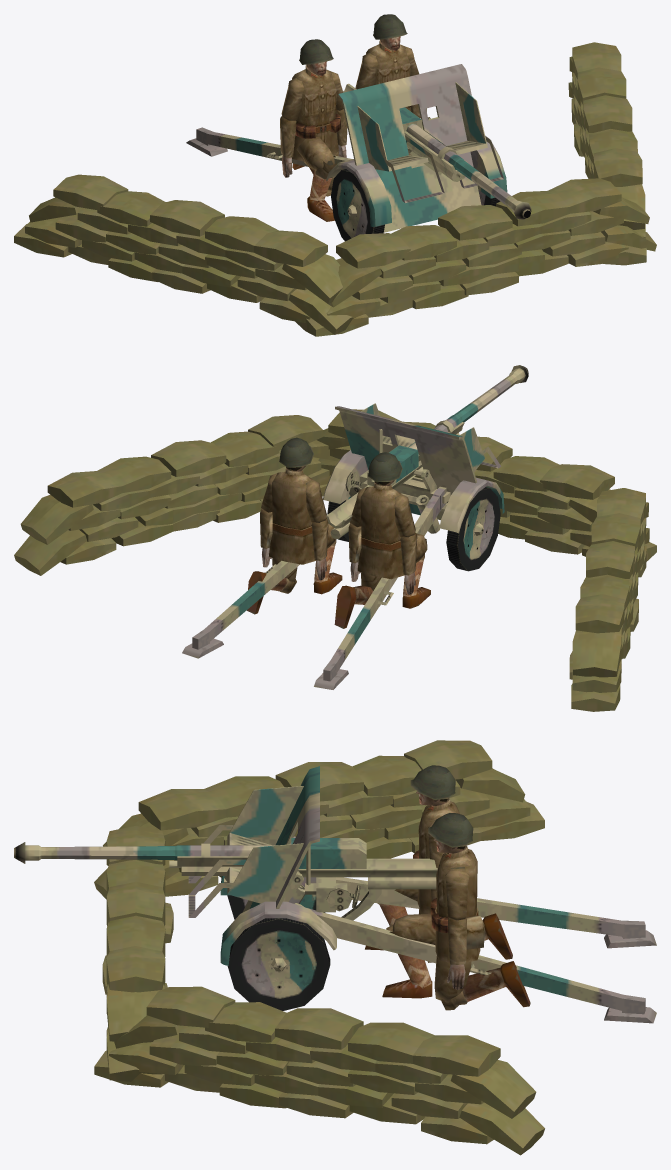
File: JPNType90_75mm_Stationary.dae
3 renders of one model, top to bottom at view 1: azimuth 30°, elevation 25°; view 2: azimuth 150°, elevation 25°; view 3: azimuth 270°, elevation 25°, orthographic. The views are drawn at different scales.
Parts seen in each view (by area): view 1: base, carriage, torso1, wheels, barrel, trail2, torso2, sleeve, head2, head1, rthigh1, rloarm1 (+3 smaller); view 2: base, carriage, torso1, torso2, wheels, trail2, trail1, barrel, sleeve, head2, head1, rloarm1 (+4 smaller); view 3: base, carriage, wheels, trail1, barrel, trail2, sleeve, torso2, head1, head2, torso1, lloarm2 (+8 smaller).
Part boxes in pixels (bbox=[...]): base: bbox=[14, 42, 656, 336]; carriage: bbox=[326, 64, 507, 232]; torso1: bbox=[292, 65, 340, 161]; wheels: bbox=[331, 169, 500, 241]; barrel: bbox=[399, 107, 531, 219]; trail2: bbox=[186, 127, 352, 166]; torso2: bbox=[366, 40, 412, 111]; sleeve: bbox=[343, 83, 467, 181]; head2: bbox=[373, 14, 407, 50]; head1: bbox=[299, 39, 333, 75]; rthigh1: bbox=[296, 136, 334, 171]; rloarm1: bbox=[280, 116, 296, 177]; base: bbox=[14, 409, 656, 711]; carriage: bbox=[323, 403, 504, 533]; torso1: bbox=[355, 483, 404, 579]; torso2: bbox=[266, 469, 316, 564]; wheels: bbox=[327, 487, 500, 571]; trail2: bbox=[314, 486, 446, 689]; trail1: bbox=[182, 560, 299, 658]; barrel: bbox=[367, 365, 528, 486]; sleeve: bbox=[326, 420, 464, 539]; head2: bbox=[279, 437, 313, 471]; head1: bbox=[368, 452, 402, 486]; rloarm1: bbox=[400, 532, 417, 594]; base: bbox=[94, 740, 544, 1155]; carriage: bbox=[188, 766, 360, 965]; wheels: bbox=[227, 894, 330, 1010]; trail1: bbox=[310, 909, 656, 1023]; barrel: bbox=[14, 838, 366, 868]; trail2: bbox=[301, 877, 656, 948]; sleeve: bbox=[169, 843, 437, 920]; torso2: bbox=[430, 846, 484, 962]; head1: bbox=[410, 765, 455, 806]; head2: bbox=[428, 813, 473, 853]; torso1: bbox=[413, 798, 459, 913]; lloarm2: bbox=[447, 917, 466, 989].
Bounding box in the file's own units: 46.2 × 35.77 × 12.21.
